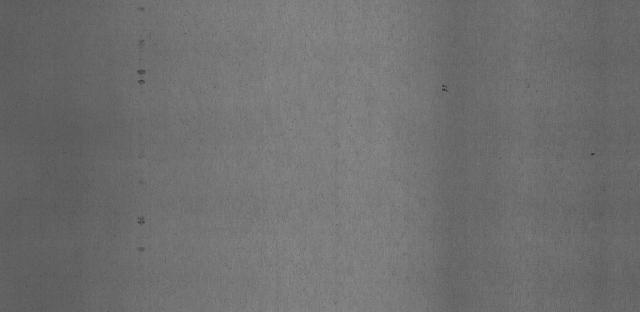oil_spot: (133, 37, 154, 88), (132, 204, 151, 258), (136, 2, 149, 14)
